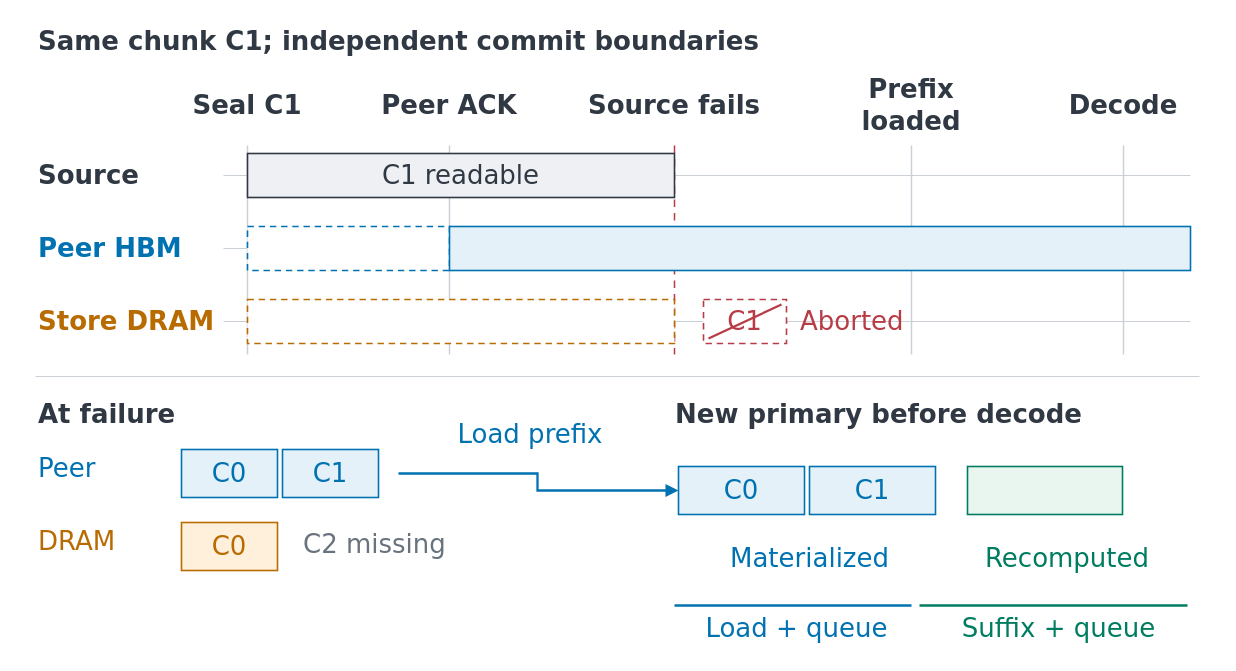
Image size: 1236x671. Some labels were removed from this diagram. Here are the shapes that lost their labels. From the top down, the box of each, then its label:
(246, 225, 450, 271): Pending
(448, 225, 1191, 271): C1 committed
(246, 298, 675, 344): C1 pending
(966, 465, 1123, 515): C2
